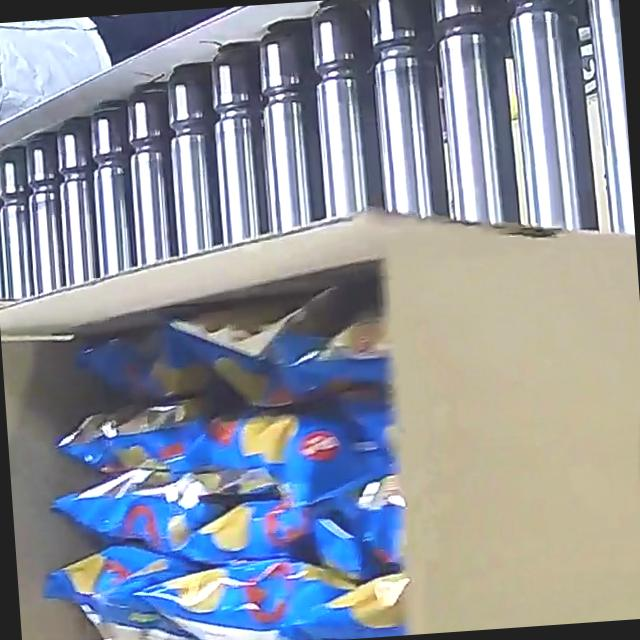paprika: (21, 293, 414, 640)
